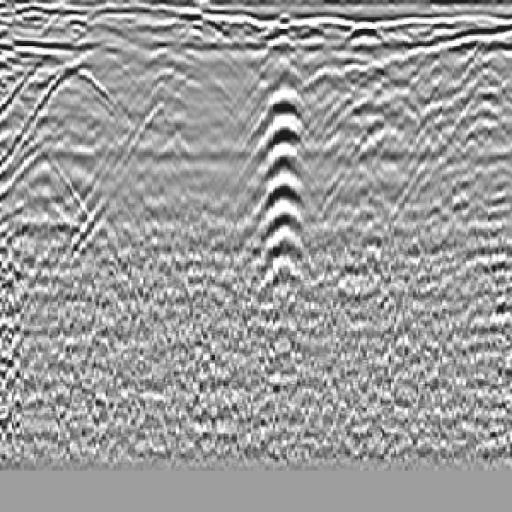non-metallic: (1, 42, 167, 299), (244, 62, 316, 326)
